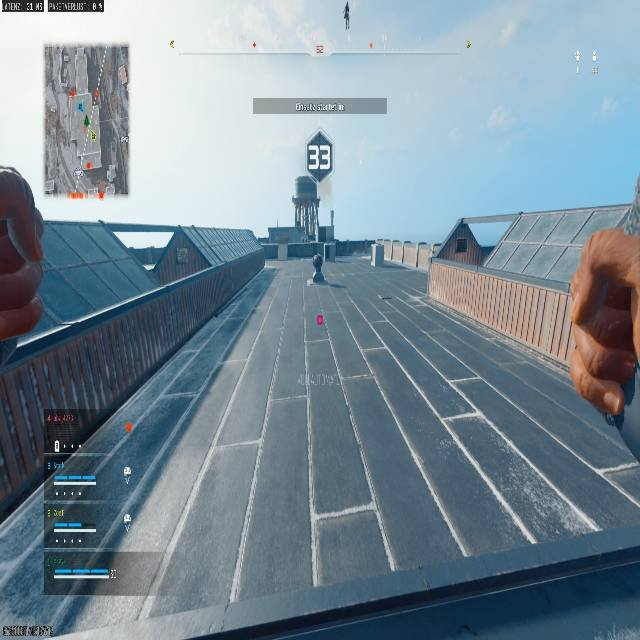head: (306, 132, 335, 175)
player: (311, 252, 324, 281)
